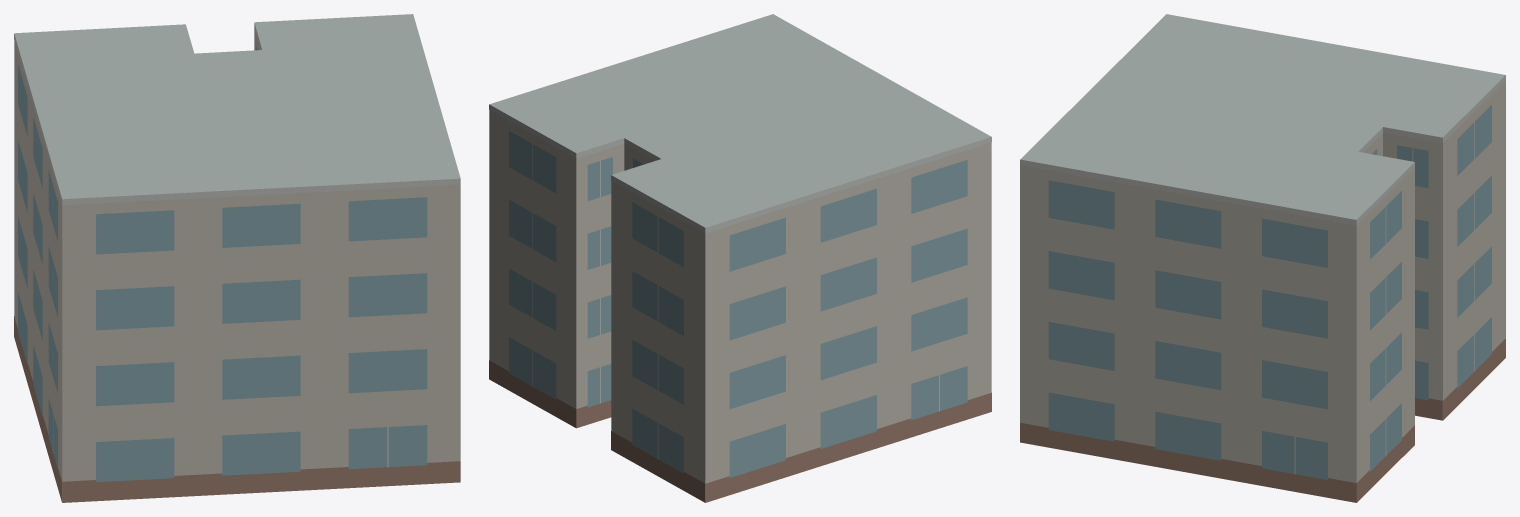
The model's file is residential-4be42827-af90-484a-a7e4-9cf49adc6e4a.glb.
3 views of the same model, side by side, from view 1: azimuth 30°, elevation 25°; view 2: azimuth 150°, elevation 25°; view 3: azimuth 270°, elevation 25° (orthographic). The views are drawn at different scales.
Parts seen in each view (by area): view 1: residential-4be42827-af90-484a-a7e4-9cf49adc6e4a.tmp; view 2: residential-4be42827-af90-484a-a7e4-9cf49adc6e4a.tmp; view 3: residential-4be42827-af90-484a-a7e4-9cf49adc6e4a.tmp.
Part boxes in pixels (<box>): residential-4be42827-af90-484a-a7e4-9cf49adc6e4a.tmp: <box>14,14,460,502</box>; residential-4be42827-af90-484a-a7e4-9cf49adc6e4a.tmp: <box>489,14,991,502</box>; residential-4be42827-af90-484a-a7e4-9cf49adc6e4a.tmp: <box>1020,14,1505,502</box>.
Size of the model in its own units: 19.05 by 12.2 by 18.99.
